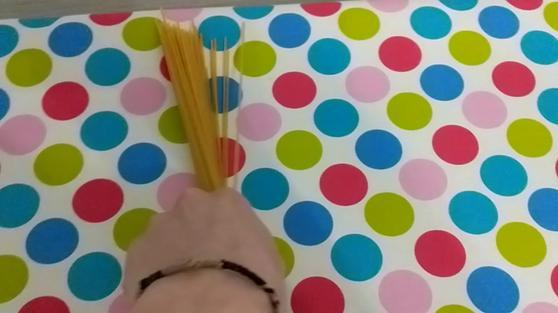spaghetti: (128, 2, 268, 208)
